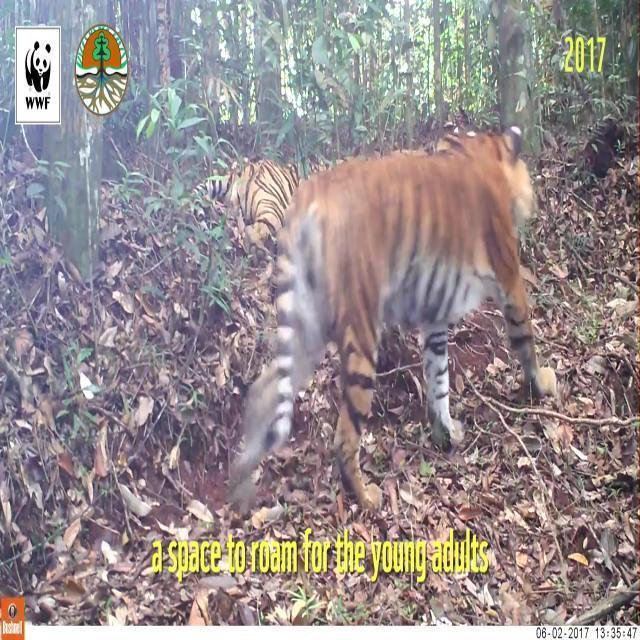tiger: (226, 122, 555, 513), (188, 157, 303, 255), (579, 115, 625, 178)
